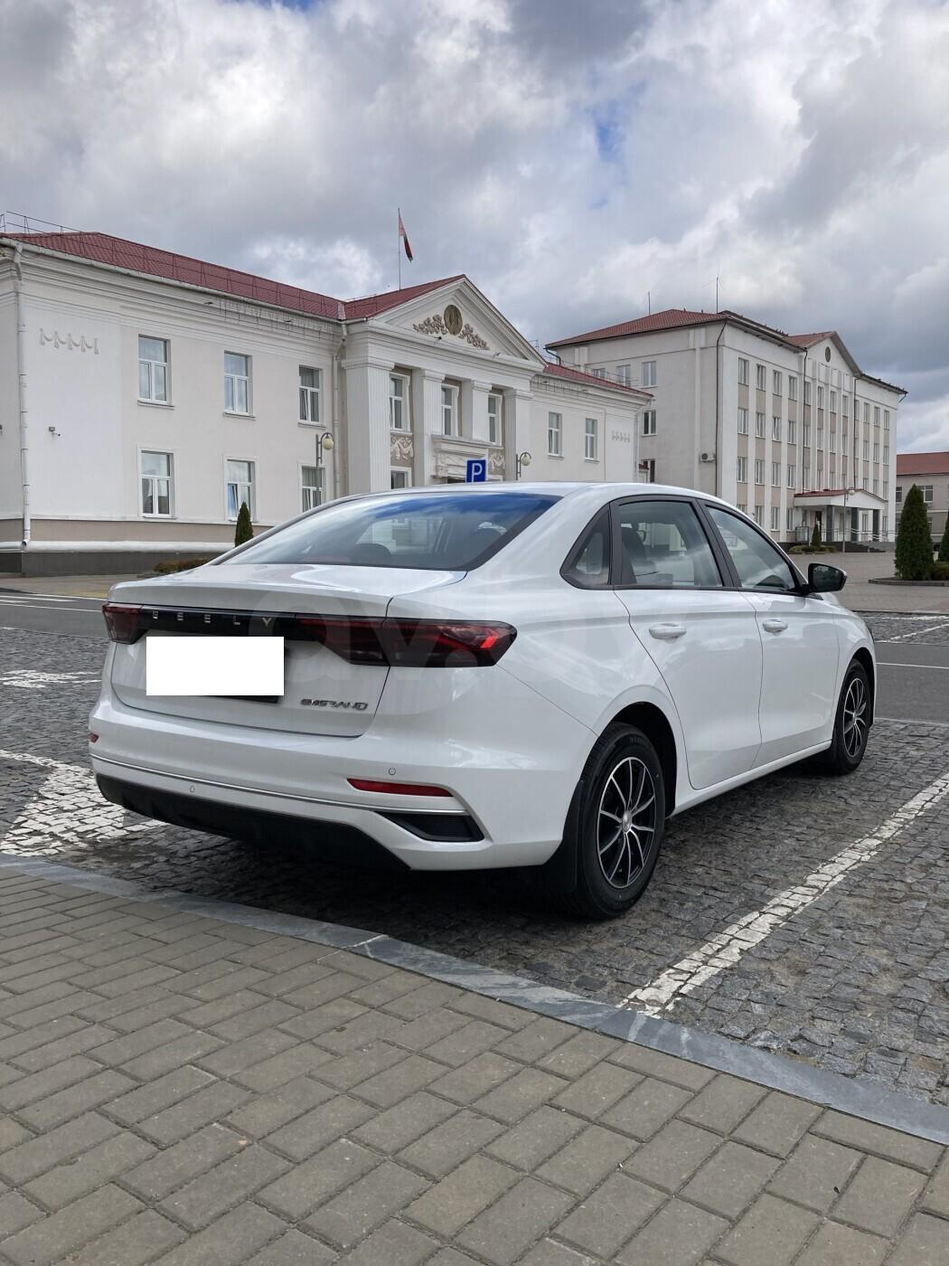Emgrand_2021: (87, 477, 889, 928)
